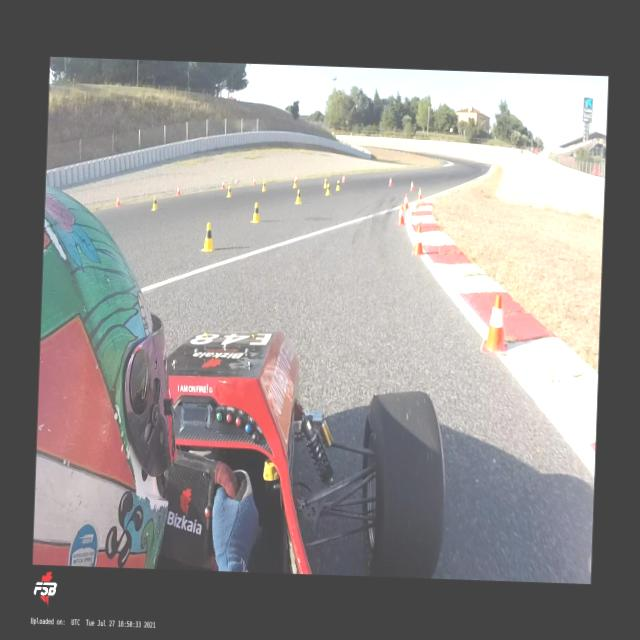orange_cone: (480, 292, 509, 356), (410, 224, 426, 254), (396, 204, 405, 226), (402, 193, 408, 209), (409, 180, 414, 190), (388, 176, 393, 186), (418, 187, 422, 199), (116, 194, 120, 206), (220, 180, 225, 189), (176, 185, 180, 196), (252, 177, 256, 186), (341, 174, 345, 182), (294, 175, 298, 183)
yellow_cone: (200, 222, 215, 252), (251, 201, 260, 222), (294, 188, 302, 204), (150, 196, 158, 210), (324, 182, 330, 195), (226, 184, 231, 198), (292, 177, 298, 188), (334, 179, 340, 190), (323, 178, 328, 188), (262, 180, 266, 192)
